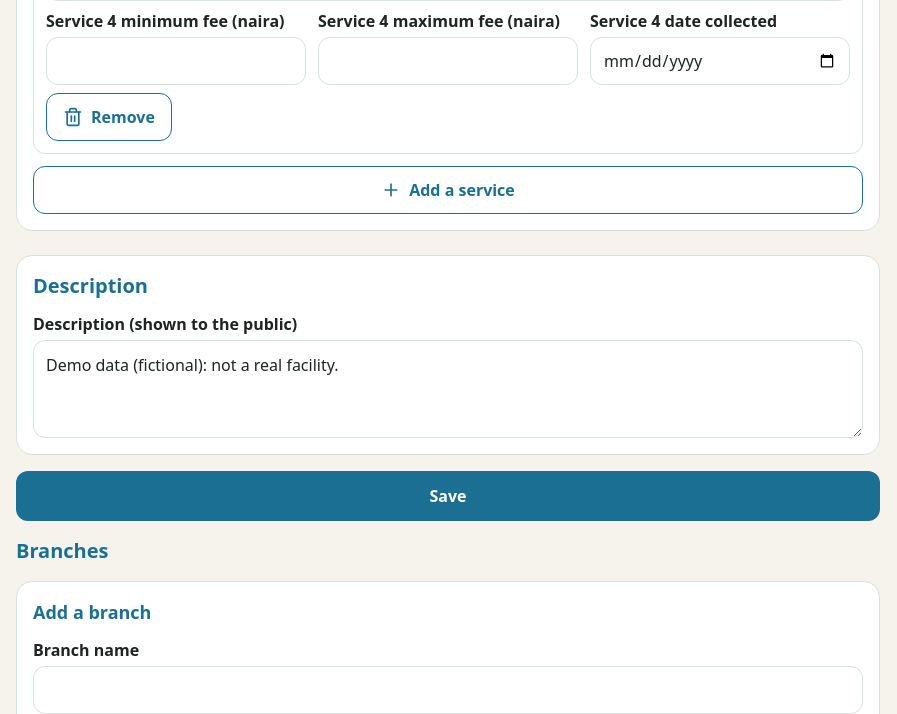
Test case: edit my facility (/provider/edit) › shows the API's sentence when the save is refused
The image size is (897, 714).
(page scrolled)
Step 1. Type " More." into the text box labelled "Description (shown to the public)" → (448, 389), box [33,340,863,438]
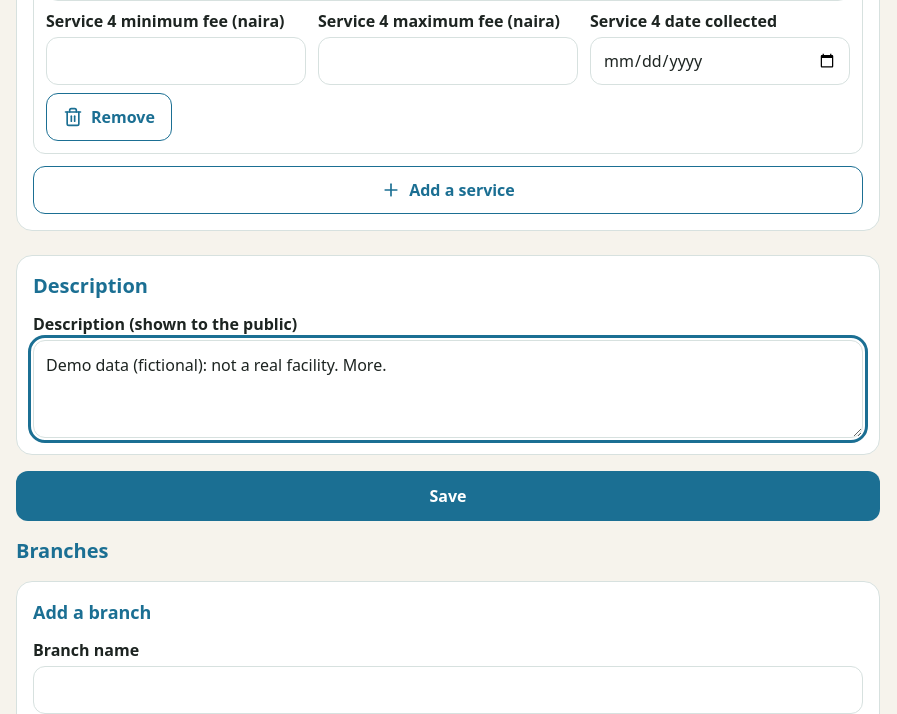
Step 2. Click the button "Save" → (448, 496), box [16,471,880,521]
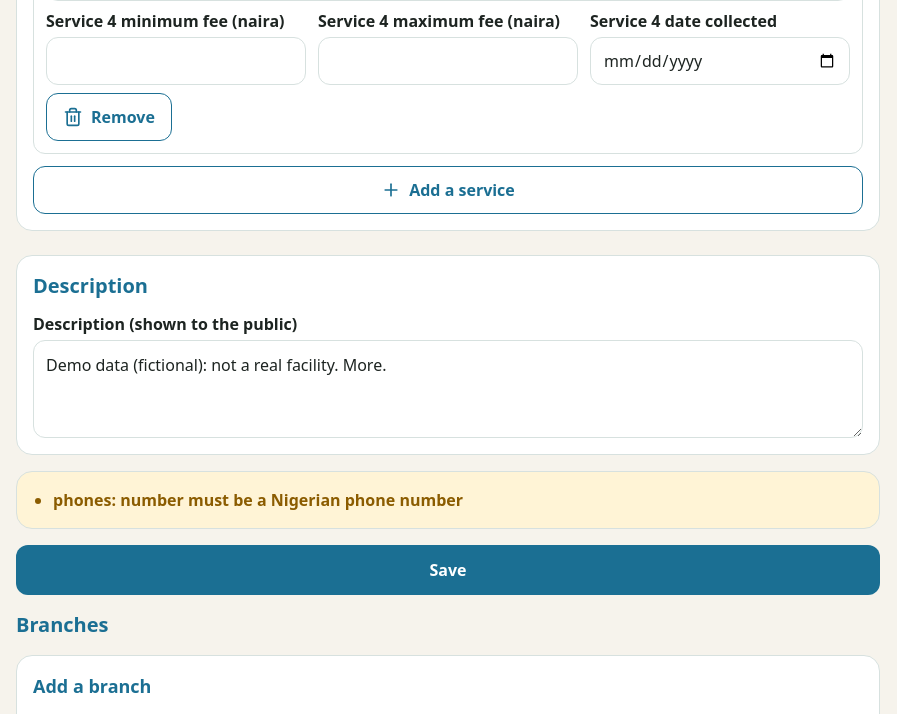
Expected: the message reads "phones: number must be a Nigerian phone number", [53,489,463,511]
